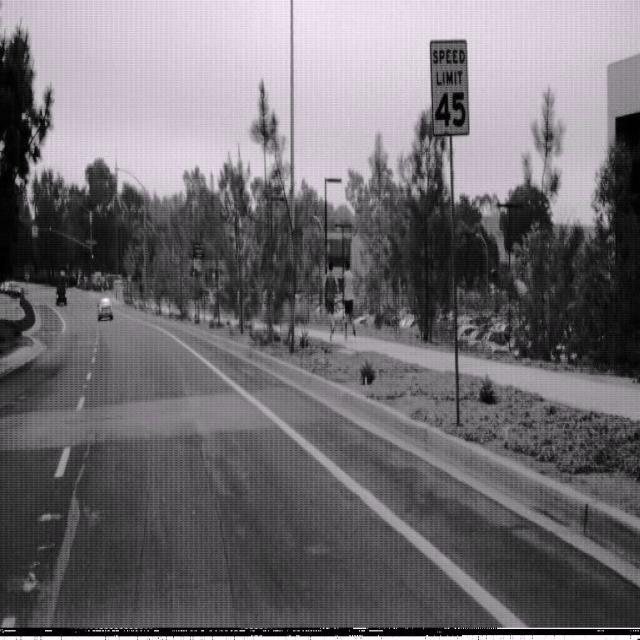speedLimit45: (430, 37, 470, 137)
